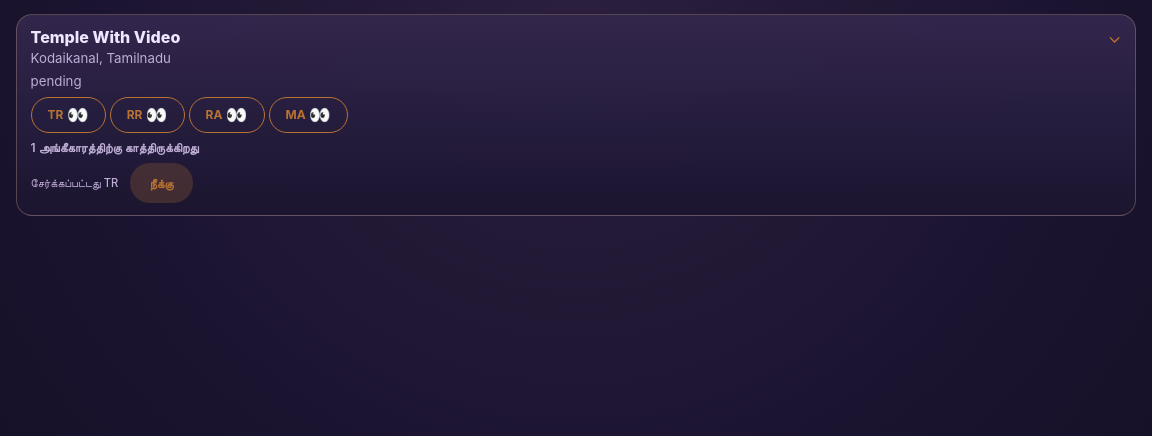
it: ReviewTab › shows queued video link when review payload includes url
The image size is (1152, 436).
Click the button "Temple With Video ⌄".
click(105, 37)  # box [31, 27, 1121, 47]
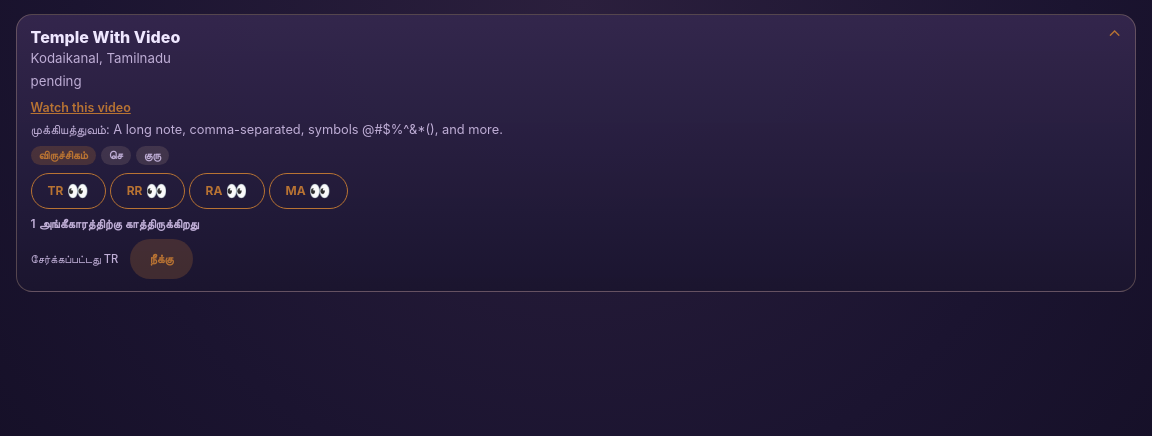
Result: the button "Temple With Video ⌃" is expanded at [31, 27, 1121, 47]
Result: the link "Watch this video" is shown at [31, 100, 131, 115]
Result: the text "முக்கியத்துவம்: A long note, comma-separated, symbols @#$%^&*(), and more." is shown at [31, 122, 503, 137]
